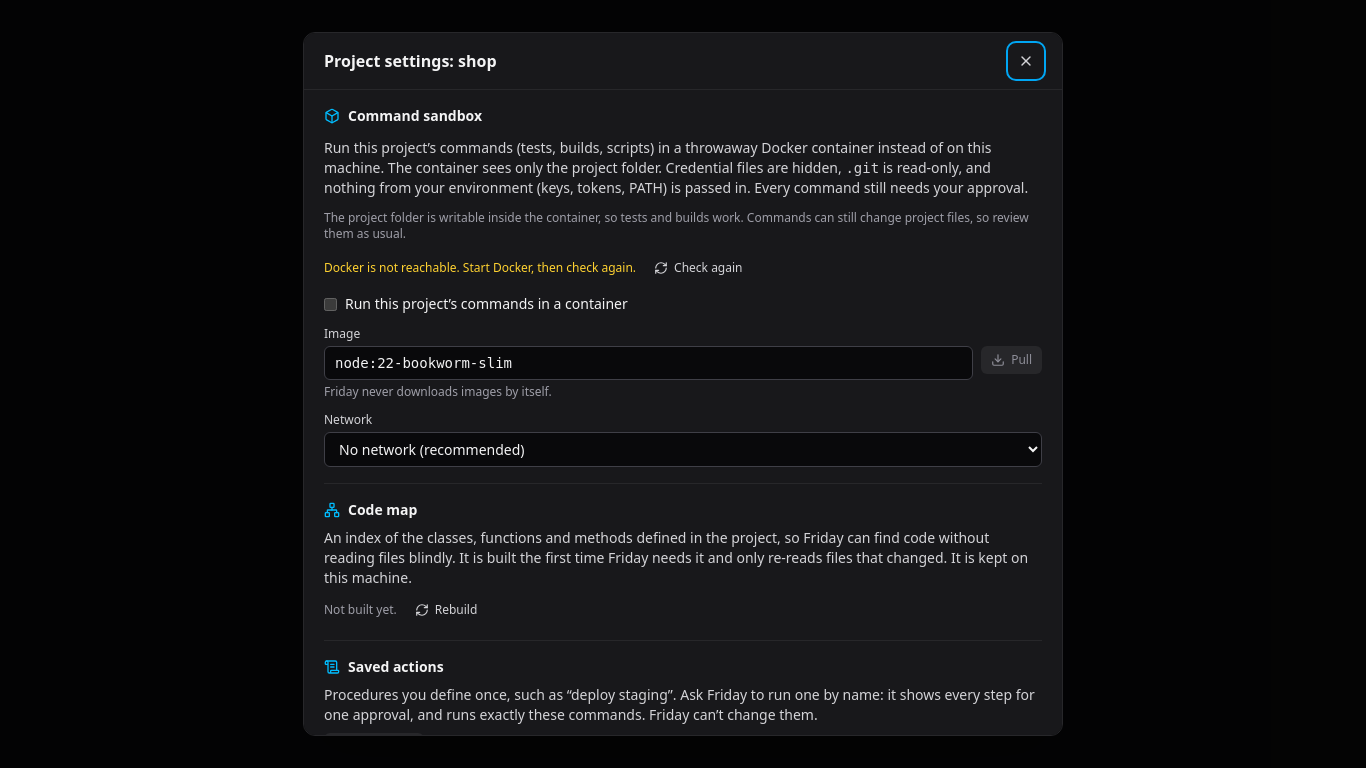
Test case: code map in project settings › shows what is indexed and rebuilds on request
This screenshot has width=1366, height=768.
Expected: the text "Not built yet." is shown, [324, 602, 397, 618]
Click the button "Rebuild".
click(446, 610)  # box [405, 596, 487, 624]
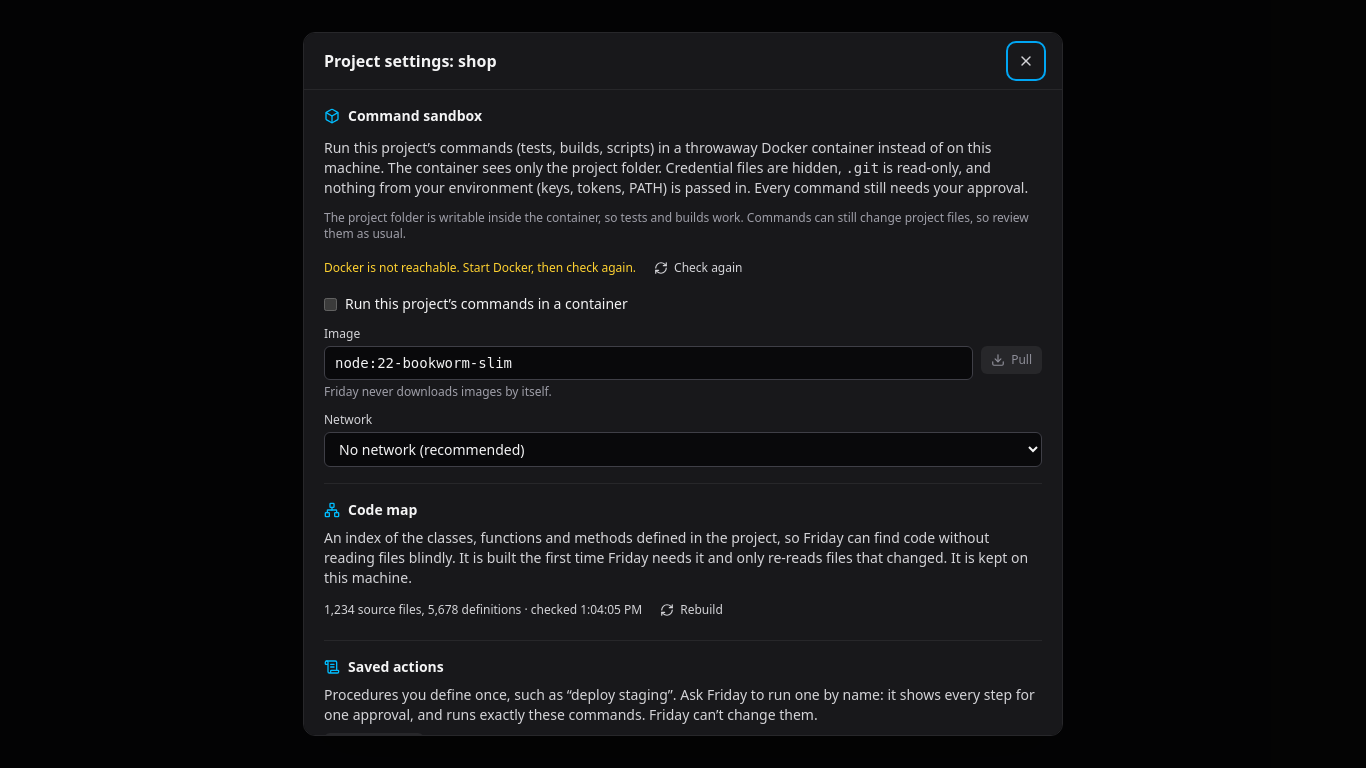
Expected: the text "1,234 source files, 5,678 definitions · checked 1:04:05 PM" is shown, [324, 602, 642, 618]
